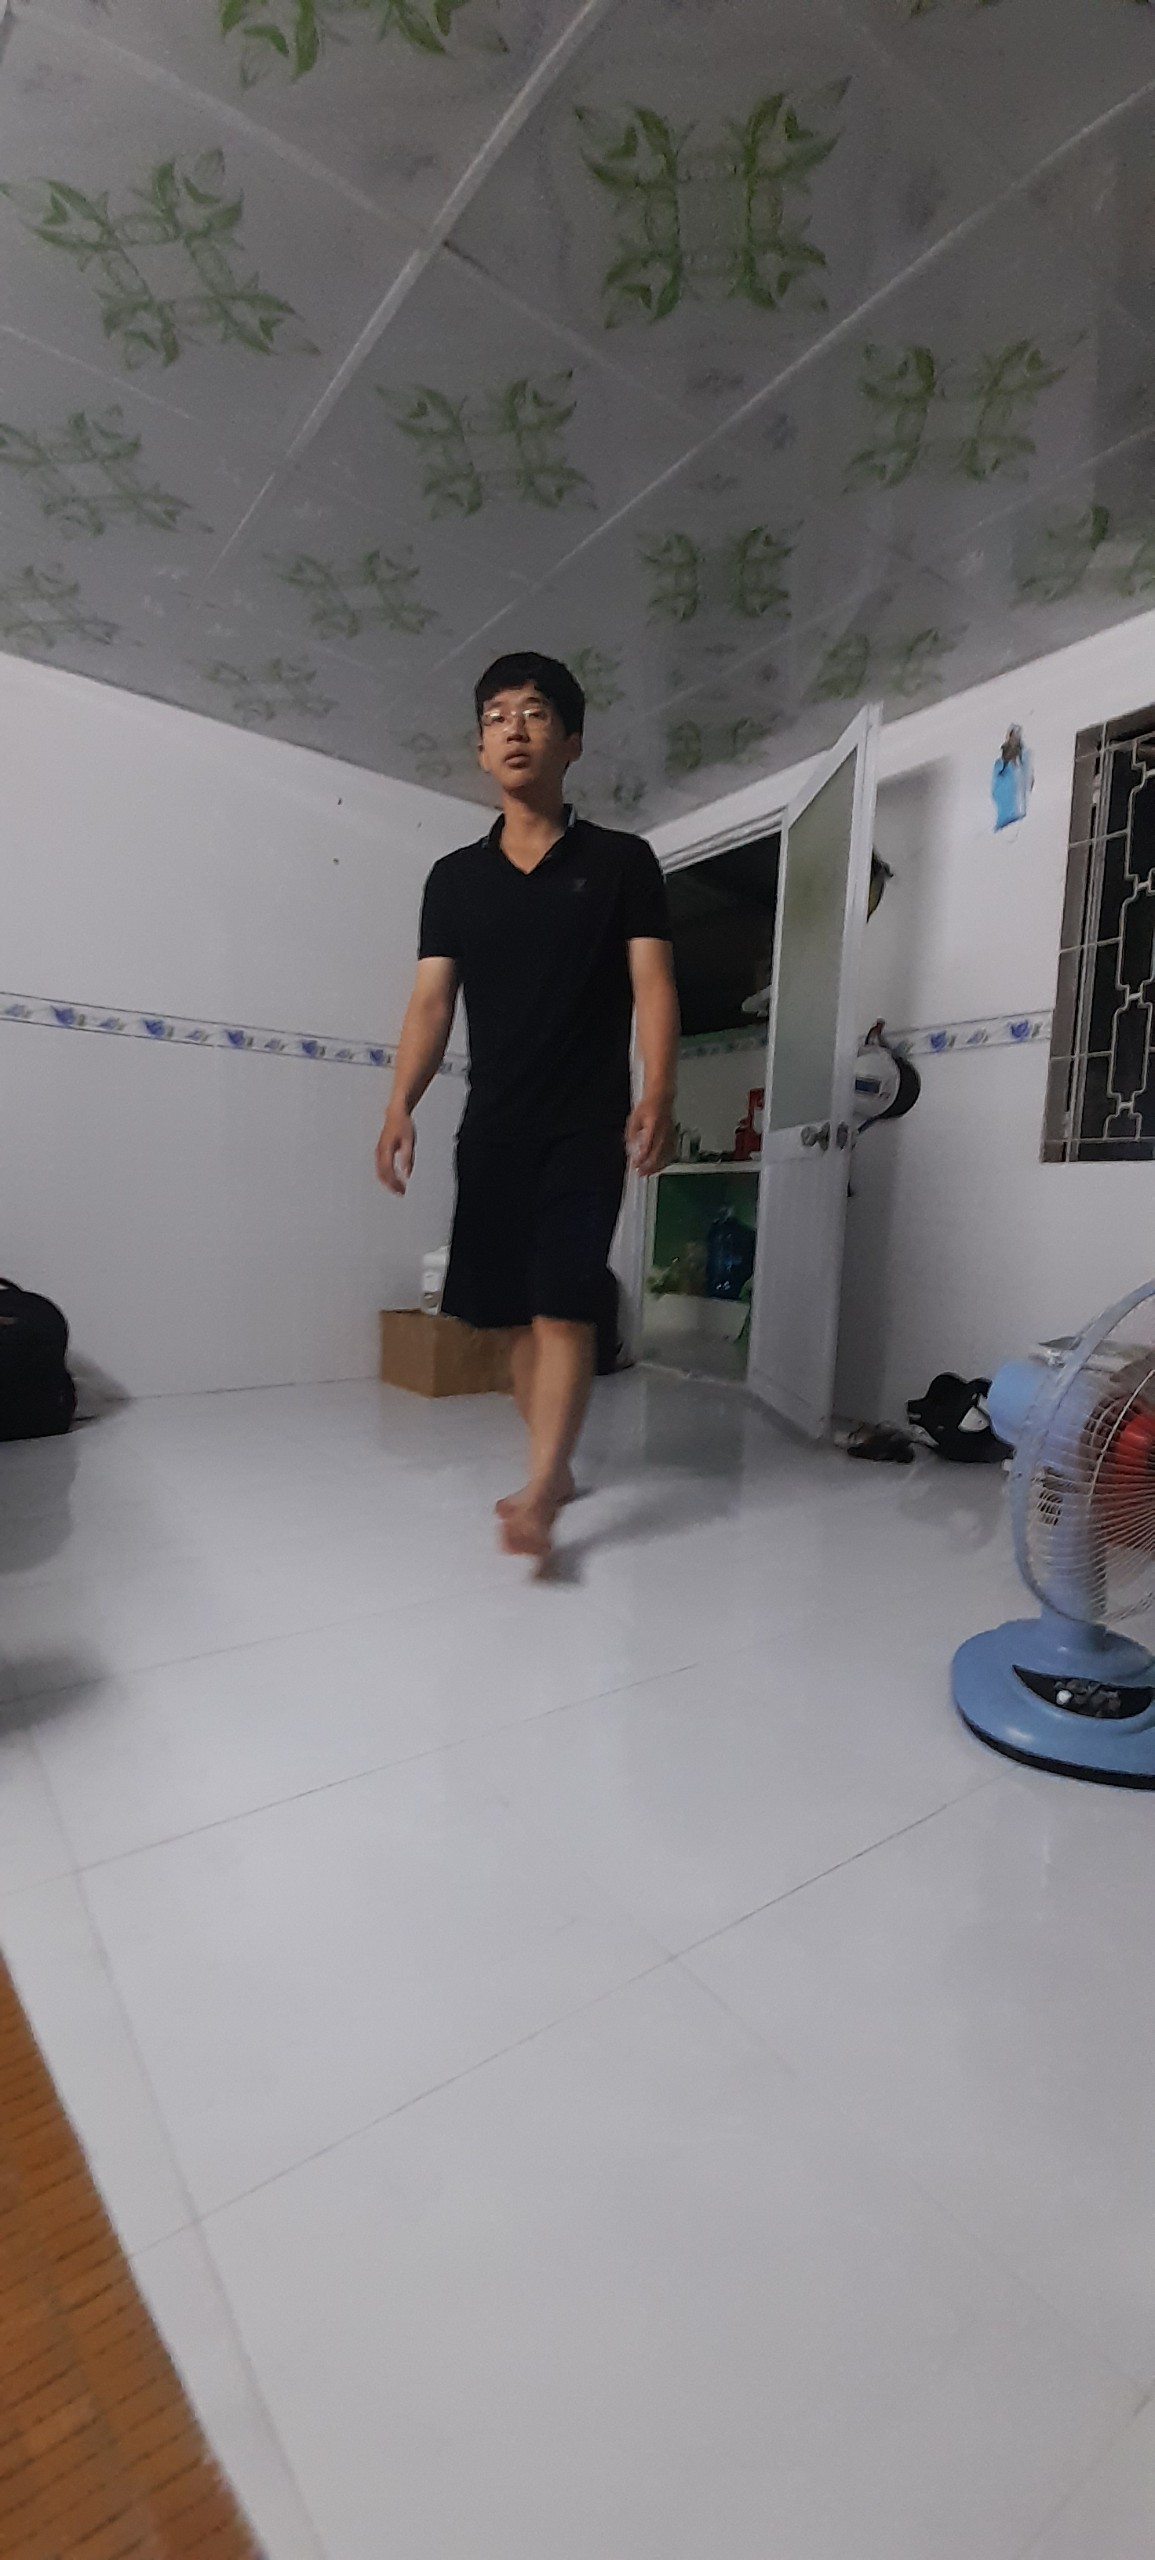person: (435, 649, 676, 1568)
